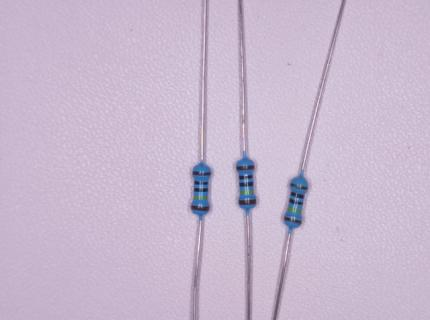Black band: (289, 198, 303, 207), (290, 192, 304, 199), (194, 187, 209, 193), (239, 174, 253, 180), (239, 182, 254, 187), (194, 181, 209, 185)
Brown band: (283, 216, 302, 226), (289, 182, 308, 191), (191, 205, 209, 212), (236, 165, 255, 171), (239, 199, 257, 205), (192, 171, 211, 176)
Yellow band: (287, 206, 302, 214), (240, 190, 254, 195), (193, 196, 208, 200)
